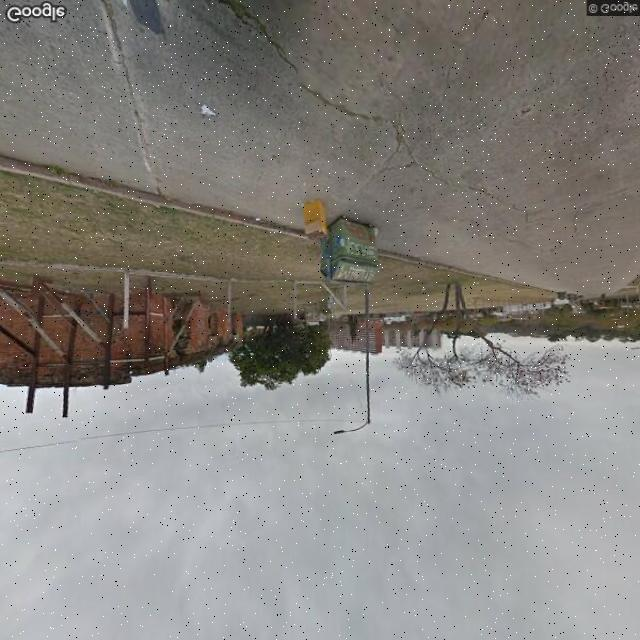garbage container: (314, 214, 392, 296)
